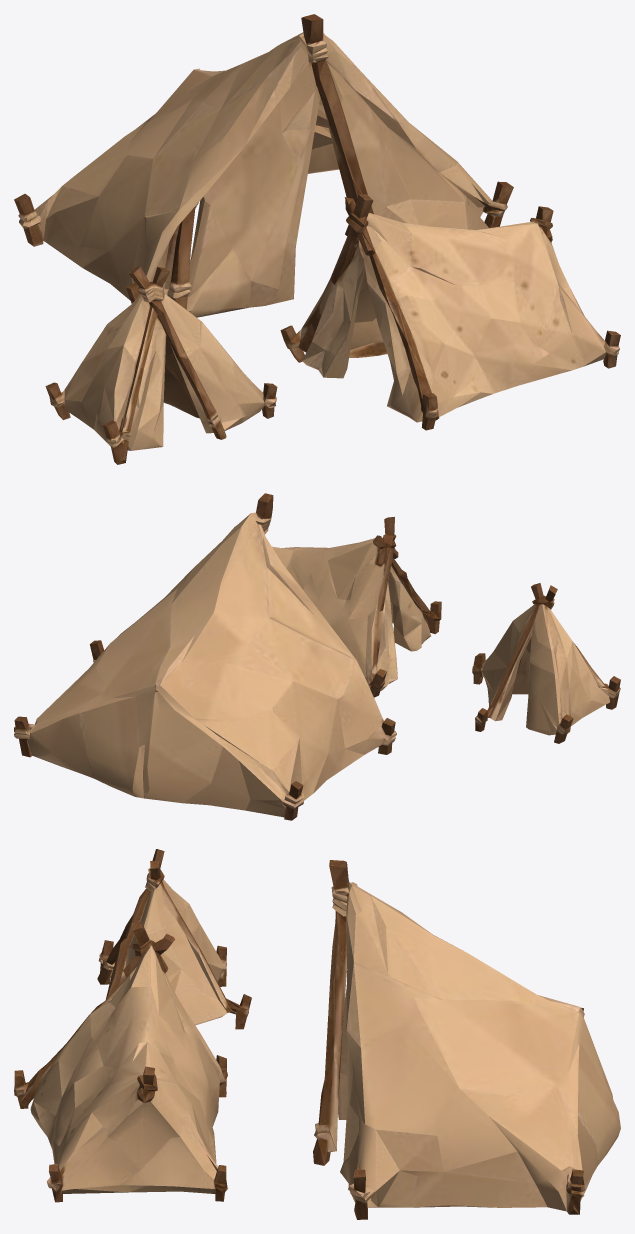
The model's file is camp-tent-cluster.glb.
3 renders of one model, top to bottom at view 1: azimuth 30°, elevation 25°; view 2: azimuth 150°, elevation 25°; view 3: azimuth 270°, elevation 25°, orthographic. The views are drawn at different scales.
Bounding box in the file's own units: 1.86 × 0.9308 × 1.9.
Materials: 1 (1 with a texture image).
